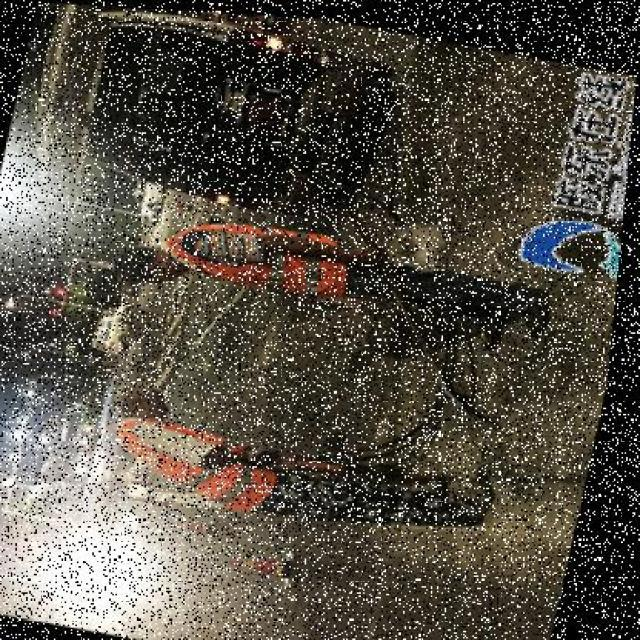vest: (103, 411, 299, 503), (189, 209, 353, 301)
